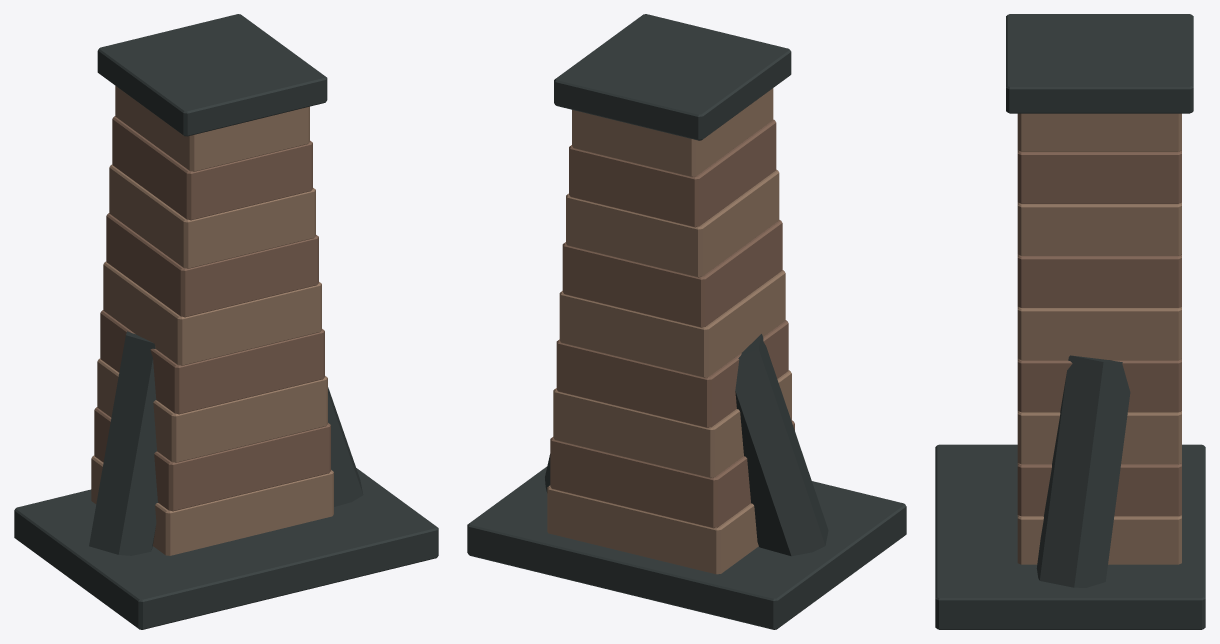
File: buttressed-chimney.glb
3 renders of one model, left to right at view 1: azimuth 30°, elevation 25°; view 2: azimuth 150°, elevation 25°; view 3: azimuth 270°, elevation 25°, orthographic. The views are drawn at different scales.
Parts seen in each view (by area): view 1: buttressed-chimney__body; view 2: buttressed-chimney__body; view 3: buttressed-chimney__body.
Part boxes in pixels (x1=…): buttressed-chimney__body: x1=14, y1=14, x2=438, y2=629; buttressed-chimney__body: x1=467, y1=14, x2=906, y2=629; buttressed-chimney__body: x1=935, y1=14, x2=1205, y2=629.
Bounding box in the file's own units: 1.25 × 1.89 × 0.92.
